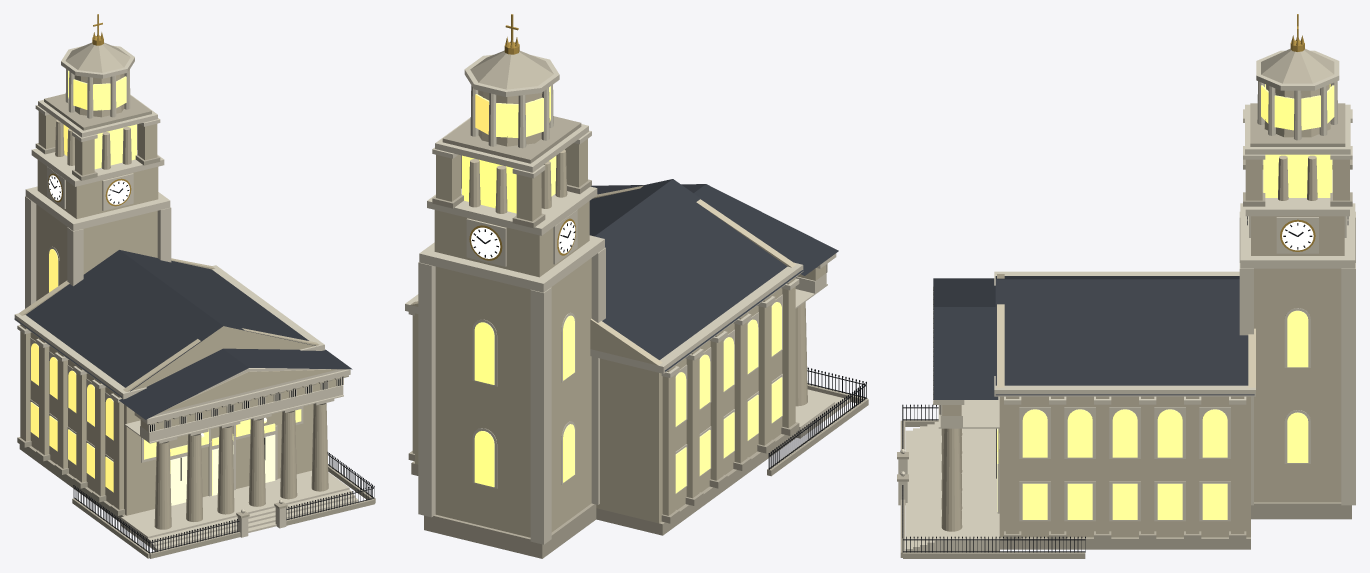
The model's file is stmatthews.glb.
3 renders of one model, left to right at view 1: azimuth 30°, elevation 25°; view 2: azimuth 150°, elevation 25°; view 3: azimuth 270°, elevation 25°, orthographic. The views are drawn at different scales.
Visible parts, largest first — view 1: Stucco, StoneLight, Slate, Stone, Emit_Window, Iron, Emit_Door, Emit_Clock, Dark, Gold; view 2: Stucco, StoneLight, Slate, Stone, Emit_Window, Iron, Emit_Clock, Gold; view 3: Stucco, StoneLight, Slate, Emit_Window, Stone, Iron, Emit_Clock.
Part boxes in pixels (bbox=[...]): Stucco: bbox=[19, 73, 337, 529]; StoneLight: bbox=[14, 45, 358, 551]; Slate: bbox=[14, 250, 352, 419]; Stone: bbox=[17, 42, 375, 558]; Emit_Window: bbox=[30, 70, 301, 492]; Iron: bbox=[73, 452, 374, 553]; Emit_Door: bbox=[170, 417, 275, 505]; Emit_Clock: bbox=[48, 175, 129, 204]; Dark: bbox=[48, 176, 342, 480]; Gold: bbox=[48, 14, 131, 206]; Stucco: bbox=[410, 90, 825, 537]; StoneLight: bbox=[405, 54, 850, 544]; Slate: bbox=[589, 179, 838, 371]; Stone: bbox=[408, 50, 868, 558]; Emit_Window: bbox=[462, 86, 782, 493]; Iron: bbox=[768, 367, 866, 469]; Emit_Clock: bbox=[471, 221, 575, 258]; Gold: bbox=[469, 14, 575, 260]; Stucco: bbox=[941, 84, 1349, 537]; StoneLight: bbox=[898, 50, 1355, 551]; Slate: bbox=[933, 276, 1254, 399]; Emit_Window: bbox=[997, 84, 1334, 519]; Stone: bbox=[897, 48, 1352, 558]; Iron: bbox=[902, 404, 1085, 552]; Emit_Clock: bbox=[1282, 221, 1313, 250].
Bounding box in the file's own units: 23.95 × 39.85 × 34.7.
